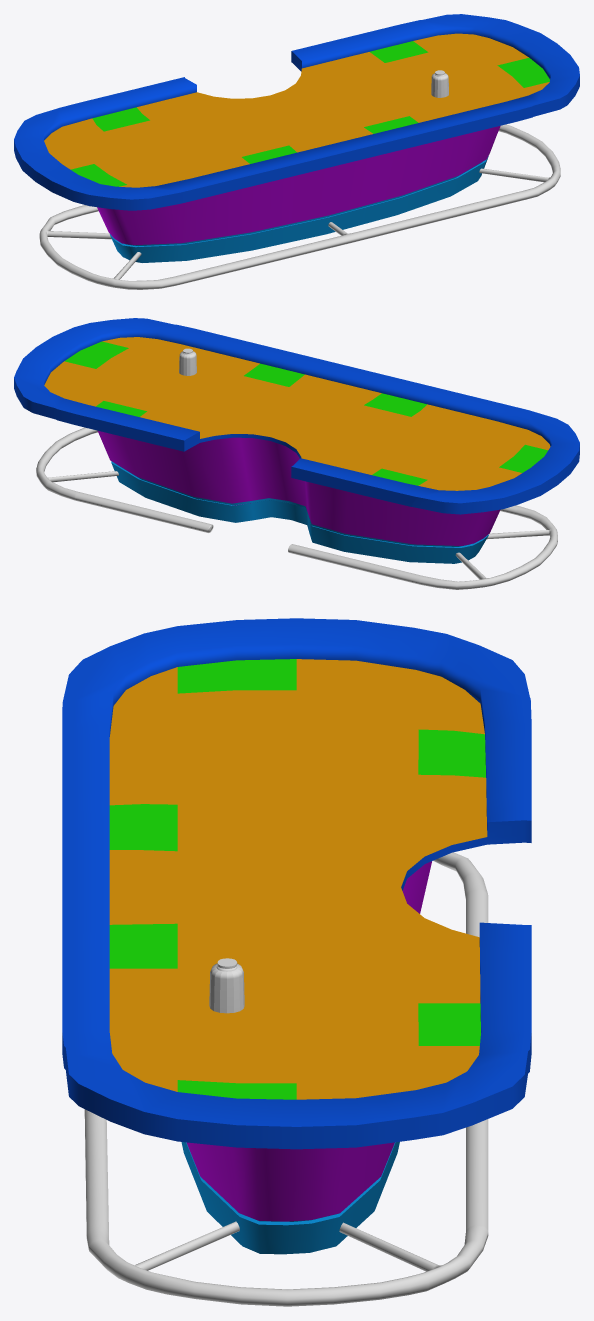
The model's file is Casino_Props_TablePoker.fbx.
3 views of the same model, one above another, from view 1: azimuth 30°, elevation 25°; view 2: azimuth 150°, elevation 25°; view 3: azimuth 270°, elevation 25° (orthographic). The views are drawn at different scales.
Visible parts, largest first — view 1: Haut, Bas, Barre_En_Or, Jarre; view 2: Haut, Bas, Barre_En_Or, Jarre; view 3: Haut, Bas, Barre_En_Or, Jarre.
Part boxes in pixels (left/top/right/bottom): Haut: left=14, top=14, right=579, bottom=210; Bas: left=97, top=126, right=500, bottom=262; Barre_En_Or: left=39, top=124, right=560, bottom=289; Jarre: left=431, top=73, right=448, bottom=97; Haut: left=14, top=318, right=579, bottom=514; Bas: left=98, top=431, right=500, bottom=563; Barre_En_Or: left=36, top=427, right=557, bottom=589; Jarre: left=179, top=351, right=196, bottom=375; Haut: left=62, top=618, right=531, bottom=1149; Bas: left=181, top=861, right=431, bottom=1254; Barre_En_Or: left=84, top=852, right=488, bottom=1306; Jarre: left=209, top=963, right=244, bottom=1013.
Bounding box in the file's own units: 513 × 114 × 200.
